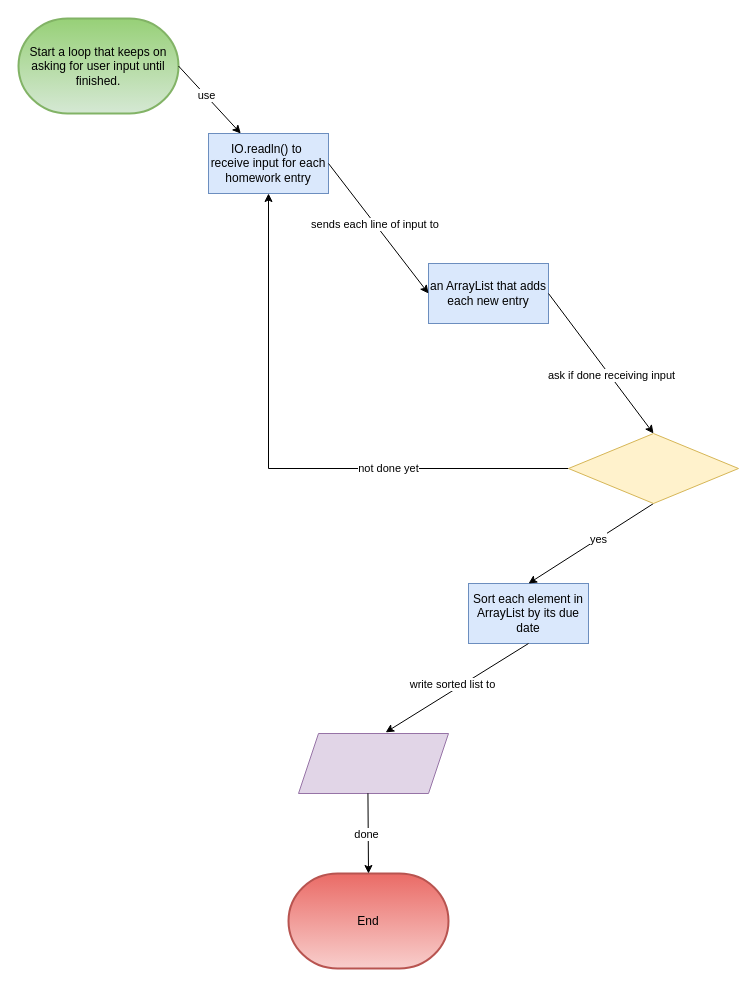
This 756x986 diagram has some shape labels left out. The box of each missing label's shape, as (x1, y1, x2, y2) in pixels:
csv or txt file: (298, 732, 448, 794)
done?: (568, 432, 738, 504)
